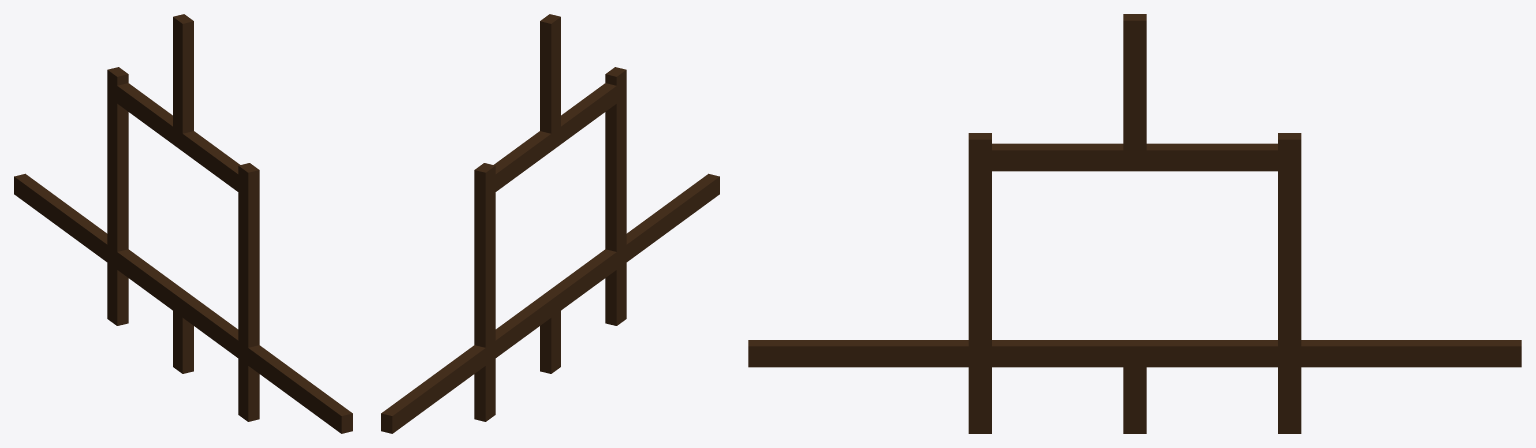
Rendered from Part 1 Roof.fbx.
3 views of the same model, side by side, from view 1: azimuth 30°, elevation 25°; view 2: azimuth 150°, elevation 25°; view 3: azimuth 270°, elevation 25° (orthographic). The views are drawn at different scales.
Parts seen in each view (by area): view 1: House_FlatRoof_Deco_Planks; view 2: House_FlatRoof_Deco_Planks; view 3: House_FlatRoof_Deco_Planks.
Boxes of the visible parts, box(x1,y1,x2,y2) form: House_FlatRoof_Deco_Planks: box(14, 14, 352, 433); House_FlatRoof_Deco_Planks: box(381, 14, 719, 433); House_FlatRoof_Deco_Planks: box(748, 14, 1521, 433).
Size of the model in its own units: 0.1 by 2.95 by 5.
